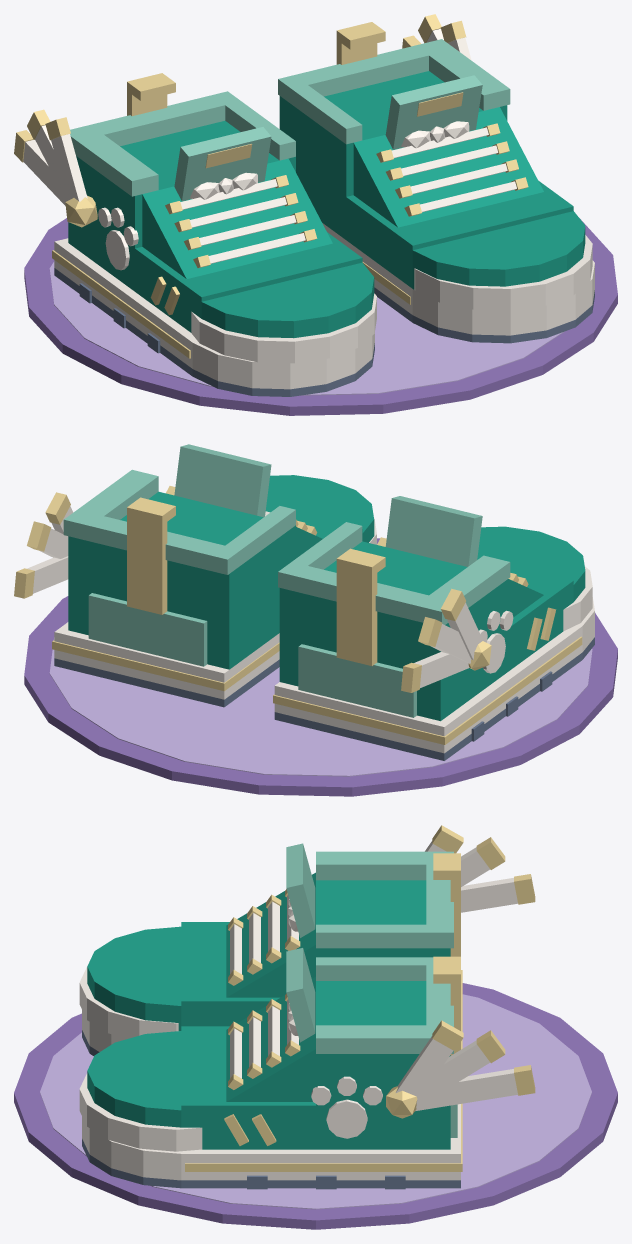
Rendered from CatCafe_Item_SpeedShoes.glb.
The picture shows the model from 3 angles, top to bottom: view 1: azimuth 30°, elevation 25°; view 2: azimuth 150°, elevation 25°; view 3: azimuth 270°, elevation 25°; orthographic projection.
Visible parts, largest first — view 1: CatCafe_Item_SpeedShoes_Right, CatCafe_Item_SpeedShoes_Left, CatCafe_Item_SpeedShoes; view 2: CatCafe_Item_SpeedShoes_Right, CatCafe_Item_SpeedShoes_Left, CatCafe_Item_SpeedShoes; view 3: CatCafe_Item_SpeedShoes_Left, CatCafe_Item_SpeedShoes_Right, CatCafe_Item_SpeedShoes.
Part boxes in pixels (<box>): CatCafe_Item_SpeedShoes_Right: <box>14,73,376,396</box>; CatCafe_Item_SpeedShoes_Left: <box>278,14,594,343</box>; CatCafe_Item_SpeedShoes: <box>24,218,617,415</box>; CatCafe_Item_SpeedShoes_Right: <box>273,496,594,760</box>; CatCafe_Item_SpeedShoes_Left: <box>14,444,376,707</box>; CatCafe_Item_SpeedShoes: <box>24,538,617,796</box>; CatCafe_Item_SpeedShoes_Left: <box>79,948,535,1189</box>; CatCafe_Item_SpeedShoes_Right: <box>79,825,535,1055</box>; CatCafe_Item_SpeedShoes: <box>14,983,617,1229</box>.
Bounding box in the file's own units: 3.5 × 1.2 × 3.5.
1 material, 1 textured.
